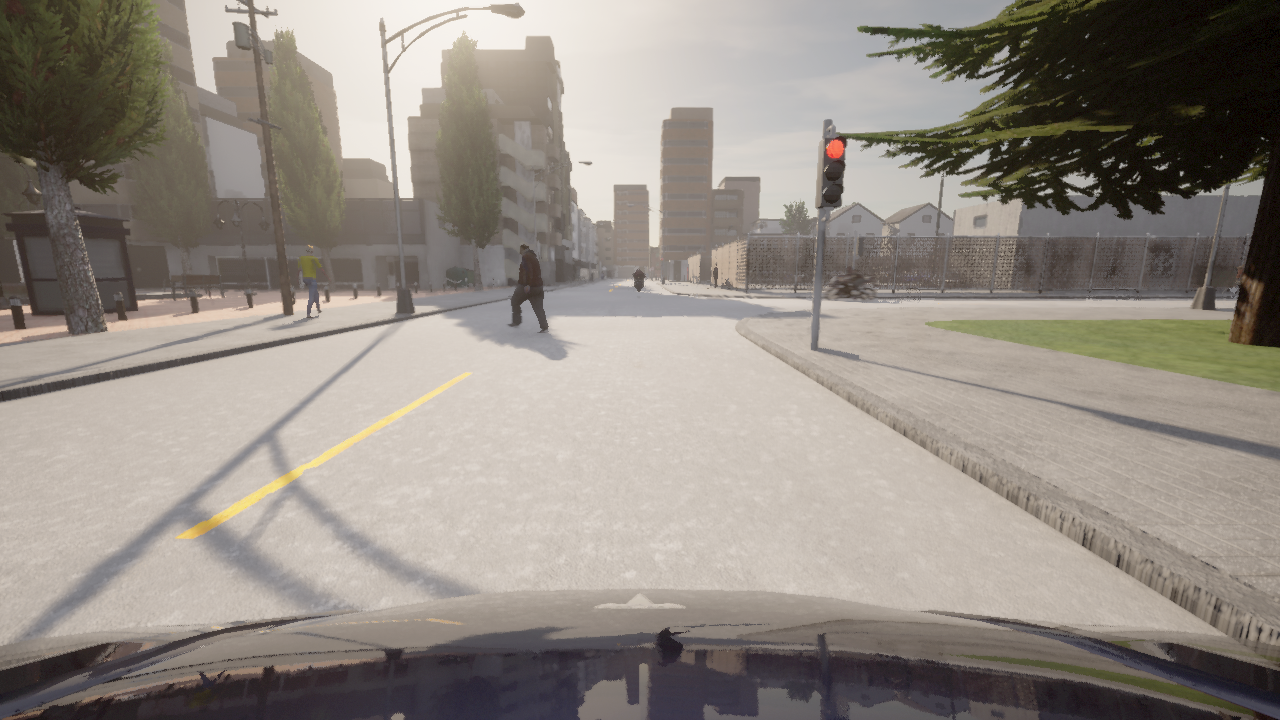cyclist: (0, 588, 1279, 719), (825, 274, 877, 300), (870, 267, 898, 283), (912, 269, 940, 283), (1222, 285, 1239, 306), (781, 271, 813, 282), (750, 266, 772, 280), (899, 271, 917, 282), (791, 273, 810, 283), (823, 270, 841, 280), (635, 274, 643, 290), (935, 271, 940, 273)
pedestrian: (507, 242, 549, 333), (296, 244, 331, 318), (712, 263, 719, 288)
